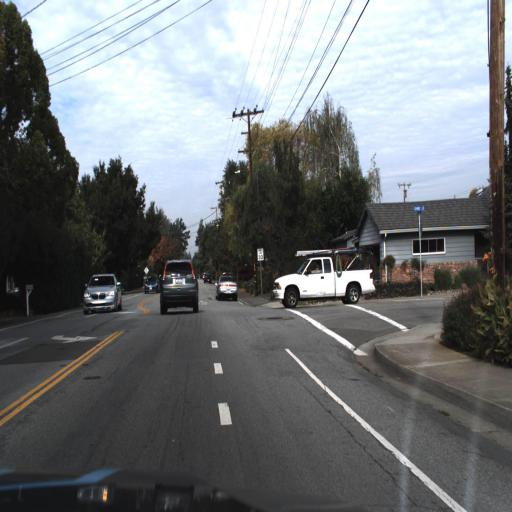car: (272, 258, 374, 306), (152, 251, 202, 317), (80, 270, 122, 318), (214, 271, 240, 301), (142, 266, 158, 298)
